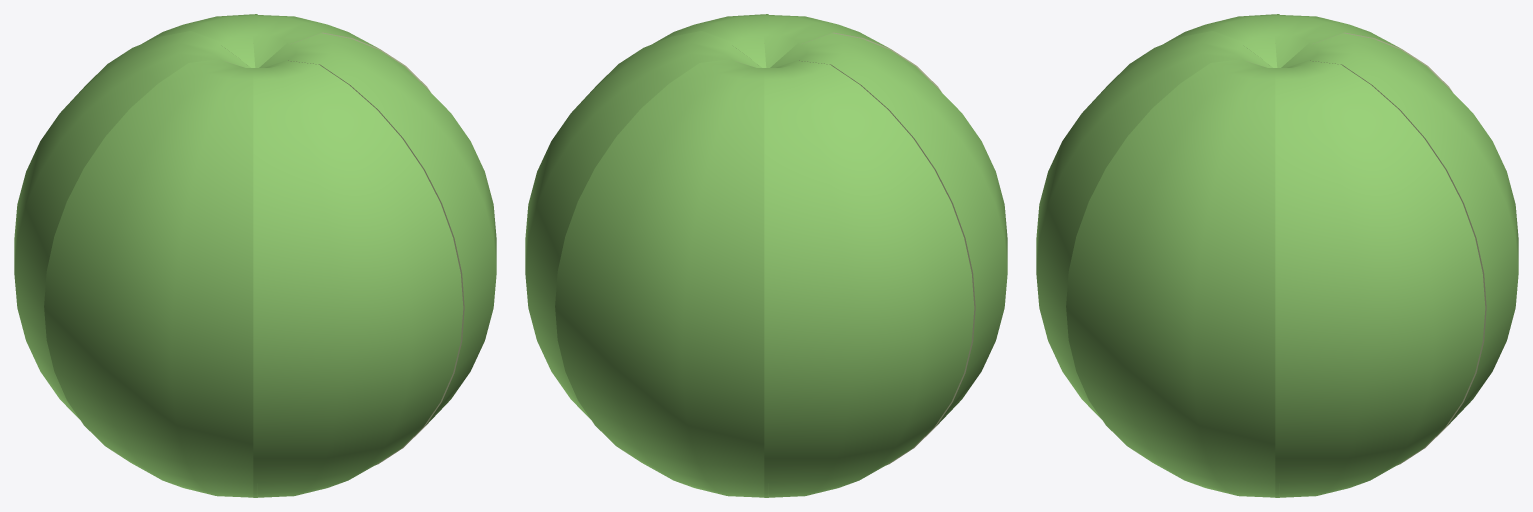
File: jabuka (1).fbx
3 views of the same model, side by side, from view 1: azimuth 30°, elevation 25°; view 2: azimuth 150°, elevation 25°; view 3: azimuth 270°, elevation 25° (orthographic).
Visible parts, largest first — view 1: polySurface11, polySurface13, polySurface19, polySurface21, polySurface15, polySurface17; view 2: polySurface21, polySurface17, polySurface13, polySurface15, polySurface11, polySurface19; view 3: polySurface15, polySurface19, polySurface17, polySurface11, polySurface21, polySurface13.
Part boxes in pixels (x1=…): polySurface11: x1=253, y1=59, x2=463, y2=497; polySurface13: x1=44, y1=59, x2=257, y2=497; polySurface19: x1=259, y1=33, x2=496, y2=465; polySurface21: x1=14, y1=31, x2=250, y2=419; polySurface15: x1=253, y1=15, x2=430, y2=92; polySurface17: x1=142, y1=14, x2=257, y2=67; polySurface21: x1=764, y1=59, x2=974, y2=497; polySurface17: x1=555, y1=59, x2=768, y2=497; polySurface13: x1=770, y1=33, x2=1007, y2=465; polySurface15: x1=525, y1=31, x2=761, y2=419; polySurface11: x1=764, y1=15, x2=941, y2=92; polySurface19: x1=653, y1=14, x2=768, y2=67; polySurface15: x1=1275, y1=59, x2=1485, y2=497; polySurface19: x1=1066, y1=59, x2=1279, y2=497; polySurface17: x1=1281, y1=33, x2=1518, y2=465; polySurface11: x1=1036, y1=31, x2=1272, y2=419; polySurface21: x1=1275, y1=15, x2=1452, y2=92; polySurface13: x1=1164, y1=14, x2=1279, y2=67.
Bounding box in the file's own units: 1.01 × 0.9626 × 1.01.
